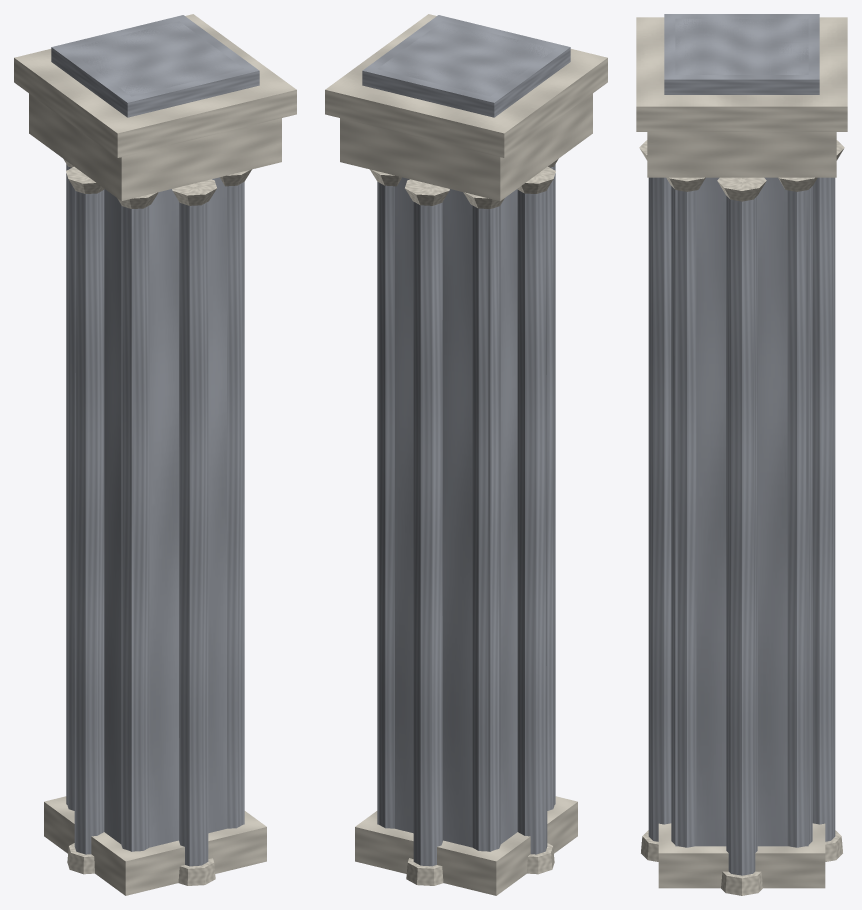
Rendered from vampire-crypt-and-gothic-cathedral-crossing-pier-87033e78__22953.glb.
3 renders of one model, left to right at view 1: azimuth 30°, elevation 25°; view 2: azimuth 150°, elevation 25°; view 3: azimuth 270°, elevation 25°, orthographic. The views are drawn at different scales.
Parts seen in each view (by area): view 1: crossing-pier; view 2: crossing-pier; view 3: crossing-pier.
Boxes of the visible parts, <box> form: crossing-pier: <box>14,14,296,895</box>; crossing-pier: <box>325,14,607,895</box>; crossing-pier: <box>636,14,847,895</box>.
Bounding box in the file's own units: 1.9 × 8 × 1.9.
2 materials, 2 textured.
